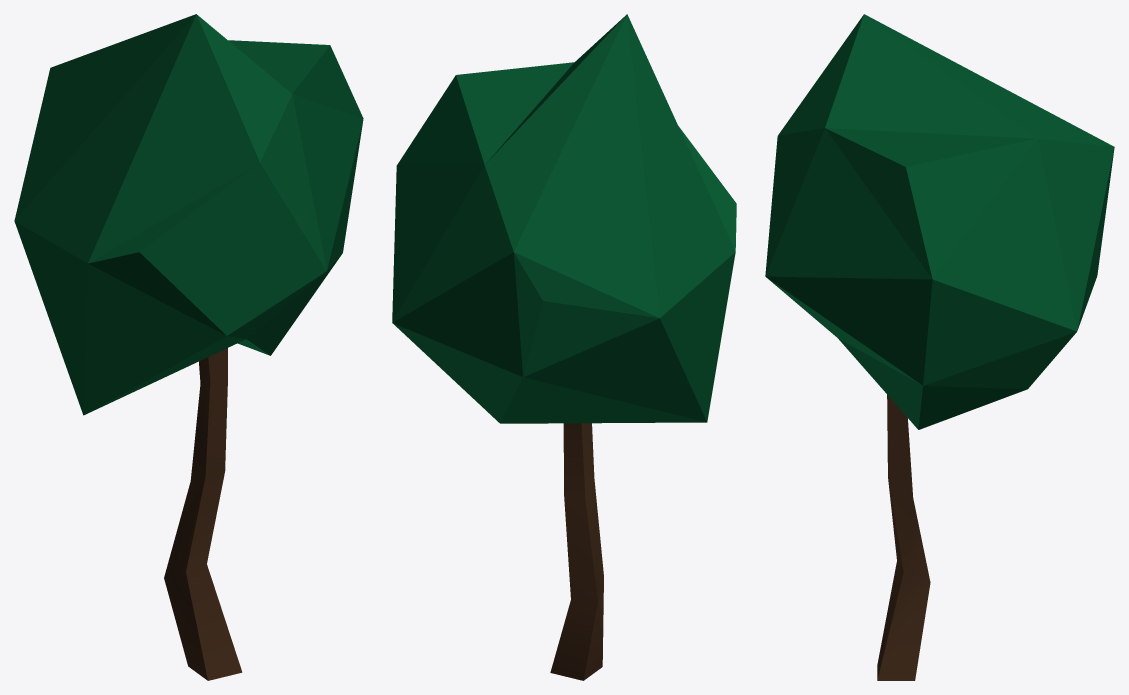
Rendered from Deci_Tree_03.fbx.
3 renders of one model, left to right at view 1: azimuth 30°, elevation 25°; view 2: azimuth 150°, elevation 25°; view 3: azimuth 270°, elevation 25°, orthographic. The views are drawn at different scales.
Parts seen in each view (by area): view 1: Tree3_Canopy, Tree3; view 2: Tree3_Canopy, Tree3; view 3: Tree3_Canopy, Tree3.
Part boxes in pixels (left/top/right/bottom): Tree3_Canopy: left=14, top=14, right=363, bottom=415; Tree3: left=164, top=348, right=242, bottom=680; Tree3_Canopy: left=392, top=14, right=736, bottom=423; Tree3: left=550, top=423, right=603, bottom=680; Tree3_Canopy: left=765, top=14, right=1114, bottom=429; Tree3: left=877, top=394, right=930, bottom=680.
Bounding box in the file's own units: 108 × 222 × 109.
